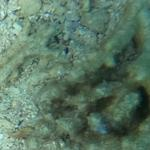dead: (1, 3, 149, 148)
